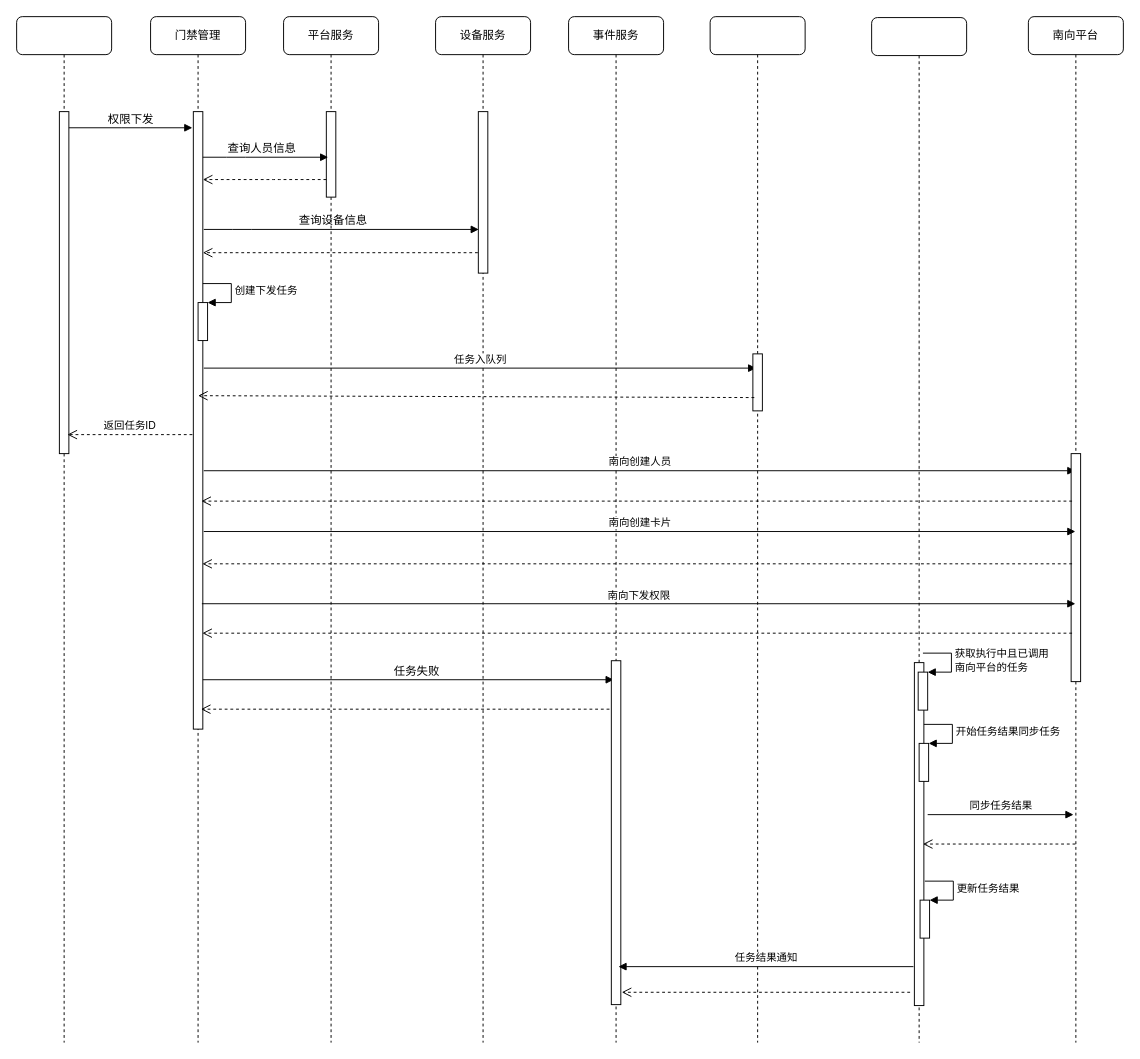
This 1140x1059 diagram has some shape labels left out. The box of each missing label's shape, as (x1, y1, x2, y2) in pixels:
RocketMQ: (709, 16, 805, 1043)
Saas: (16, 16, 112, 1043)
同步服务: (871, 17, 967, 1043)
